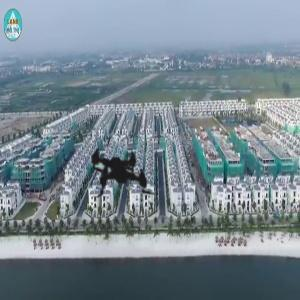drone: (9, 67, 216, 274)
